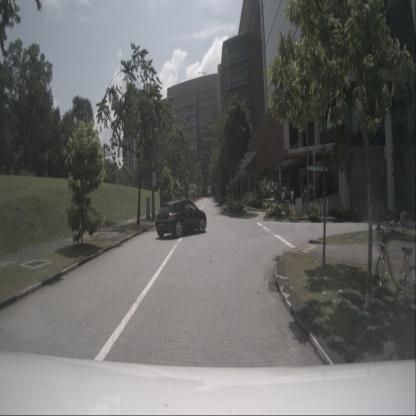human-pedestrian-adult: (291, 188, 295, 210), (282, 188, 286, 210)
vehicle-bicycle: (374, 226, 415, 313), (386, 205, 408, 233)
vehicle-car: (155, 199, 207, 239)
